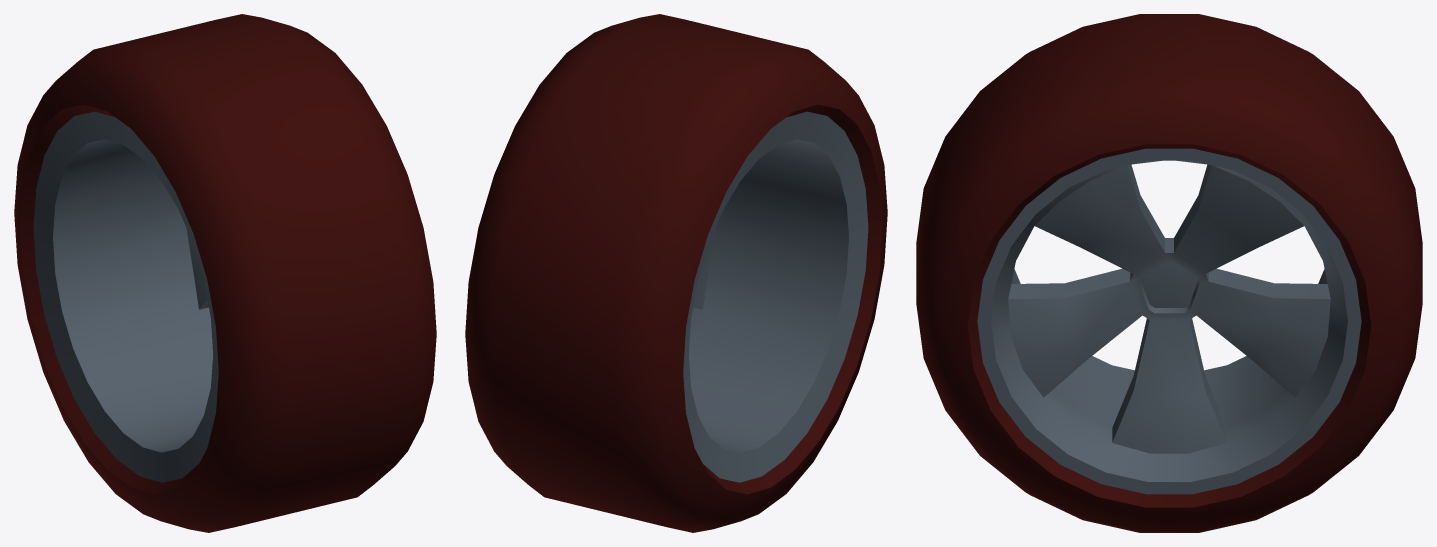
3 views of the same model, side by side, from view 1: azimuth 30°, elevation 25°; view 2: azimuth 150°, elevation 25°; view 3: azimuth 270°, elevation 25° (orthographic).
Visible parts, largest first — view 1: W1A; view 2: W1A; view 3: W1A.
Boxes of the visible parts, <box> form: W1A: <box>14,14,436,532</box>; W1A: <box>465,14,887,532</box>; W1A: <box>916,14,1422,532</box>.
Size of the model in its own units: 14.02 by 28.35 by 28.56.
